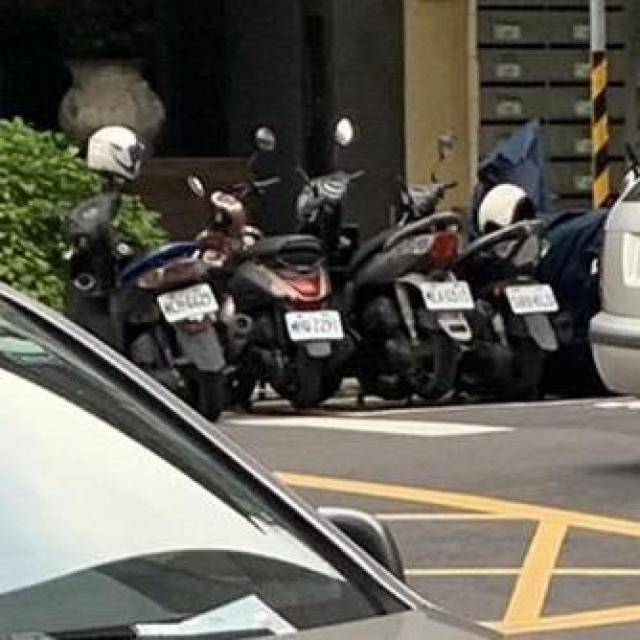W: (152, 278, 222, 326), (278, 303, 351, 345), (416, 274, 477, 314), (502, 278, 560, 316)
